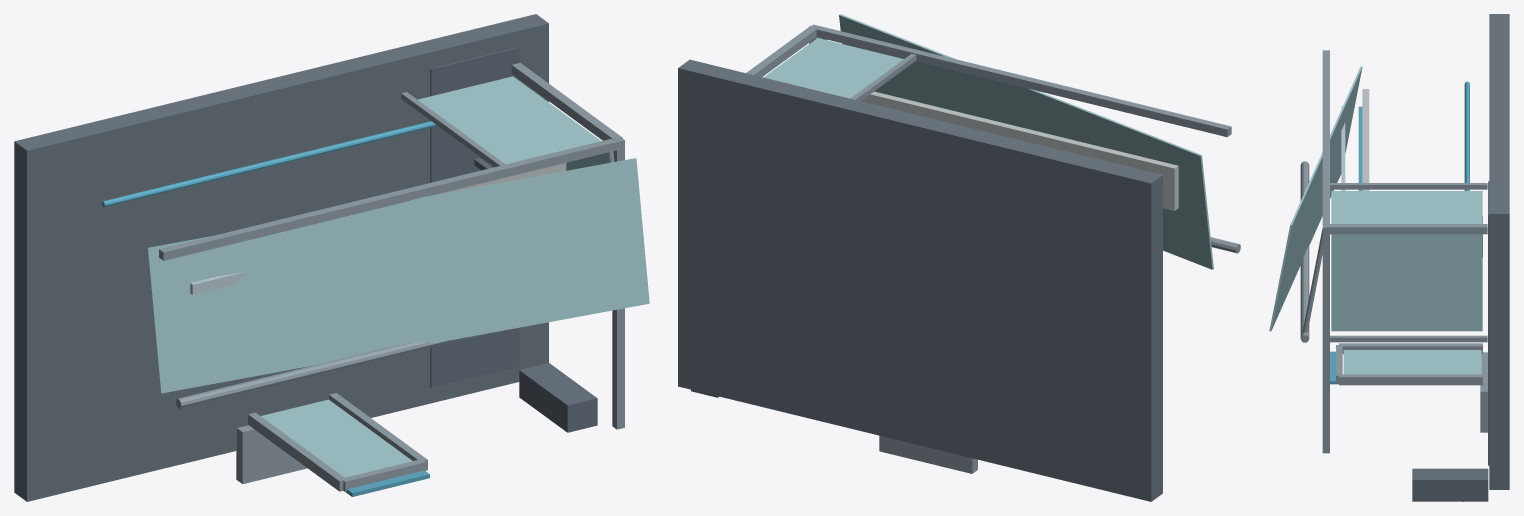
File: mars_scientific_greenhouse.glb
3 renders of one model, left to right at view 1: azimuth 30°, elevation 25°; view 2: azimuth 150°, elevation 25°; view 3: azimuth 270°, elevation 25°, orthographic. The views are drawn at different scales.
Visible parts, largest first — view 1: Raised_structural_floor, Sloped_roof_glass, Transparent_glass_wall, Floor_panel, Long_frame_beam, Door_glass, External_control_pedestal, Roof_ridge, Entry_step, Main_irrigation_pipe, Corner_frame_post, Door_left_frame (+5 smaller); view 2: Raised_structural_floor, Sloped_roof_glass, Long_frame_beam, Growing_tray, Transparent_glass_wall, Entry_step, Corner_frame_post, Side_frame_post; view 3: Transparent_glass_end, Raised_structural_floor, Transparent_glass_wall, Sloped_roof_glass, Door_glass, External_control_pedestal, End_frame_beam, Corner_frame_post, Door_right_frame, Long_frame_beam, End_frame_post, Side_frame_post (+9 smaller).
Part boxes in pixels (x1=…): Raised_structural_floor: x1=14, y1=14, x2=548, y2=501; Sloped_roof_glass: x1=147, y1=158, x2=649, y2=393; Transparent_glass_wall: x1=418, y1=76, x2=600, y2=164; Floor_panel: x1=430, y1=47, x2=519, y2=387; Long_frame_beam: x1=159, y1=138, x2=624, y2=260; Door_glass: x1=261, y1=399, x2=412, y2=477; External_control_pedestal: x1=519, y1=363, x2=597, y2=432; Roof_ridge: x1=176, y1=332, x2=491, y2=408; Entry_step: x1=236, y1=425, x2=307, y2=484; Main_irrigation_pipe: x1=101, y1=121, x2=437, y2=207; Corner_frame_post: x1=511, y1=62, x2=622, y2=140; Door_left_frame: x1=248, y1=412, x2=346, y2=491; Raised_structural_floor: x1=678, y1=59, x2=1162, y2=501; Sloped_roof_glass: x1=839, y1=14, x2=1213, y2=269; Long_frame_beam: x1=812, y1=24, x2=1231, y2=137; Growing_tray: x1=861, y1=91, x2=1178, y2=210; Transparent_glass_wall: x1=763, y1=38, x2=903, y2=98; Entry_step: x1=879, y1=435, x2=977, y2=473; Corner_frame_post: x1=746, y1=25, x2=818, y2=76; Side_frame_post: x1=850, y1=53, x2=916, y2=100; Transparent_glass_end: x1=1331, y1=234, x2=1482, y2=331; Raised_structural_floor: x1=1489, y1=14, x2=1509, y2=489; Transparent_glass_wall: x1=1331, y1=191, x2=1482, y2=223; Sloped_roof_glass: x1=1269, y1=66, x2=1362, y2=331; Door_glass: x1=1343, y1=350, x2=1481, y2=374; External_control_pedestal: x1=1412, y1=468, x2=1488, y2=501; End_frame_beam: x1=1322, y1=227, x2=1329, y2=453; Corner_frame_post: x1=1326, y1=224, x2=1487, y2=234; Door_right_frame: x1=1339, y1=374, x2=1482, y2=385; Long_frame_beam: x1=1322, y1=50, x2=1329, y2=227; End_frame_post: x1=1330, y1=335, x2=1487, y2=342; Side_frame_post: x1=1330, y1=183, x2=1487, y2=189.
Size of the model in its own units: 8.4 by 5.85 by 4.26.
